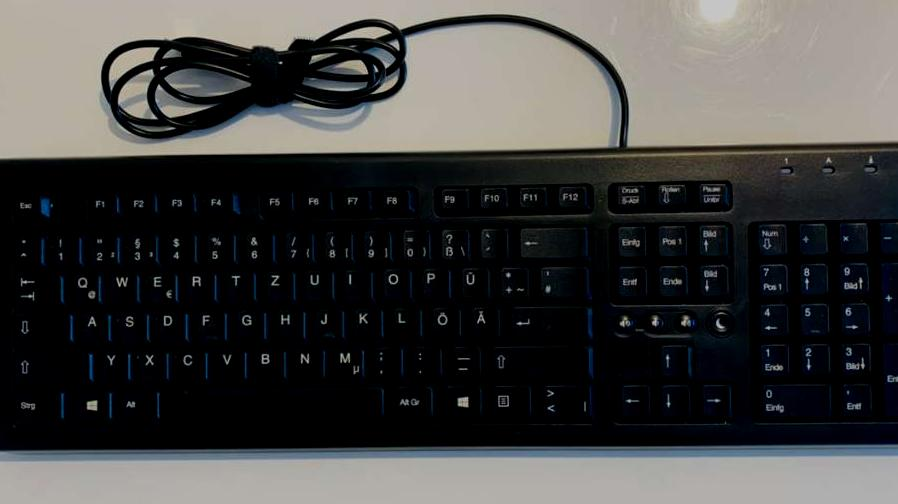0: (398, 226, 428, 260)
1: (47, 232, 79, 266)
2: (86, 230, 118, 266)
3: (124, 229, 155, 265)
4: (163, 229, 192, 263)
5: (201, 228, 233, 263)
6: (241, 228, 272, 263)
7: (281, 228, 312, 262)
8: (320, 227, 351, 262)
9: (358, 226, 389, 261)
a: (78, 308, 107, 342)
accent: (476, 224, 509, 257)
ae: (468, 302, 498, 337)
alt-left: (116, 386, 157, 421)
altgr-right: (390, 382, 432, 417)
b: (251, 344, 284, 378)
c: (174, 347, 205, 380)
caret: (12, 232, 40, 266)
comma: (370, 343, 399, 378)
d: (154, 308, 184, 341)
del: (516, 223, 585, 257)
e: (144, 268, 175, 302)
enter: (508, 302, 587, 337)
f: (194, 307, 223, 340)
g: (232, 306, 264, 340)
h: (273, 306, 302, 339)
hash: (537, 263, 587, 297)
i: (341, 266, 369, 298)
j: (312, 305, 341, 339)
k: (350, 304, 381, 339)
keyboard: (1, 136, 898, 456)
l: (390, 304, 419, 337)
less: (536, 382, 593, 419)
m: (330, 343, 363, 379)
minus: (449, 342, 480, 378)
n: (292, 344, 322, 378)
o: (379, 265, 410, 299)
oe: (429, 303, 461, 338)
p: (418, 264, 447, 298)
plus: (497, 263, 531, 298)
point: (409, 343, 440, 377)
q: (68, 270, 98, 304)
r: (183, 268, 214, 301)
s: (115, 308, 145, 341)
shift-left: (12, 347, 88, 383)
shift-lock: (11, 309, 68, 344)
shift-right: (489, 342, 588, 376)
space: (166, 383, 382, 422)
ss: (437, 225, 467, 260)
strg-left: (10, 387, 61, 424)
t: (222, 268, 253, 301)
tab: (11, 270, 58, 306)
u: (301, 266, 331, 300)
ue: (457, 264, 488, 298)
v: (214, 345, 243, 379)
w: (106, 270, 136, 302)
x: (135, 346, 166, 380)
y: (97, 348, 127, 380)
z: (263, 267, 292, 300)
